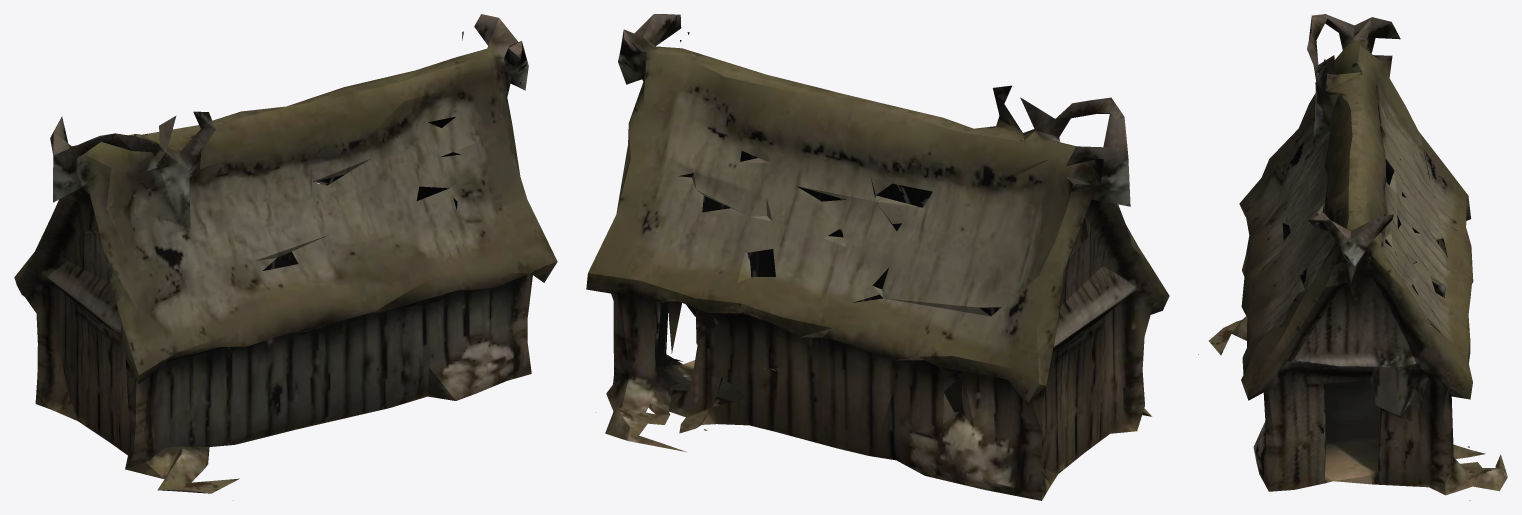
Rendered from goblin_hut_lod.glb.
3 renders of one model, left to right at view 1: azimuth 30°, elevation 25°; view 2: azimuth 150°, elevation 25°; view 3: azimuth 270°, elevation 25°, orthographic. The views are drawn at different scales.
Parts seen in each view (by area): view 1: goblin_hut; view 2: goblin_hut; view 3: goblin_hut.
Part boxes in pixels (x1,y1,x2,y2): goblin_hut: (14,14,557,493); goblin_hut: (586,14,1169,500); goblin_hut: (1198,14,1507,500).
Size of the model in its own units: 5.07 by 3.42 by 3.07.
1 material, 1 textured.
